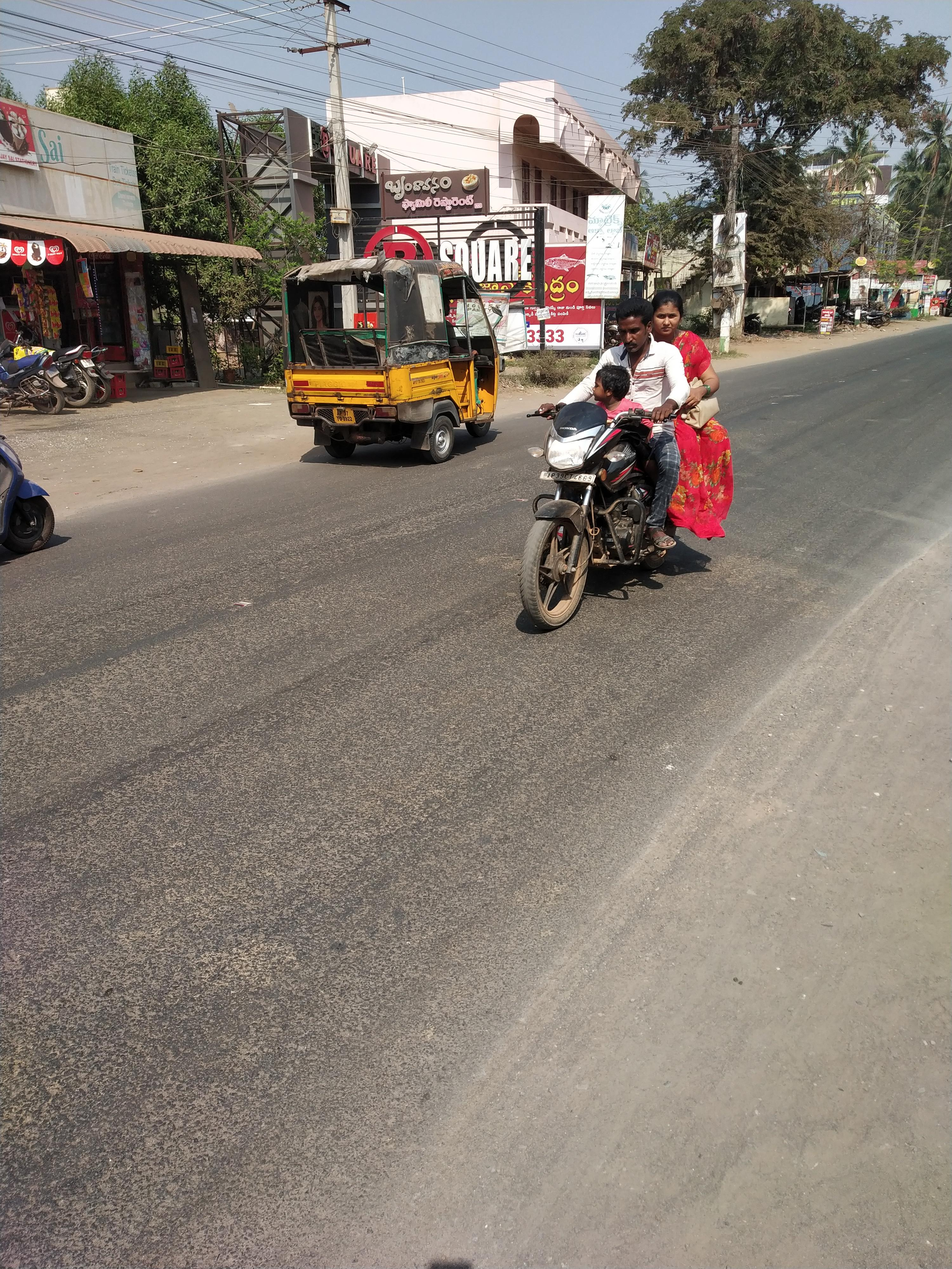Non-emergency: (249, 208, 525, 478)
